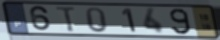0: (84, 7, 110, 34)
1: (120, 7, 138, 34)
4: (141, 6, 166, 36)
6: (28, 5, 52, 33)
9: (169, 8, 193, 35)
T: (54, 6, 78, 33)
